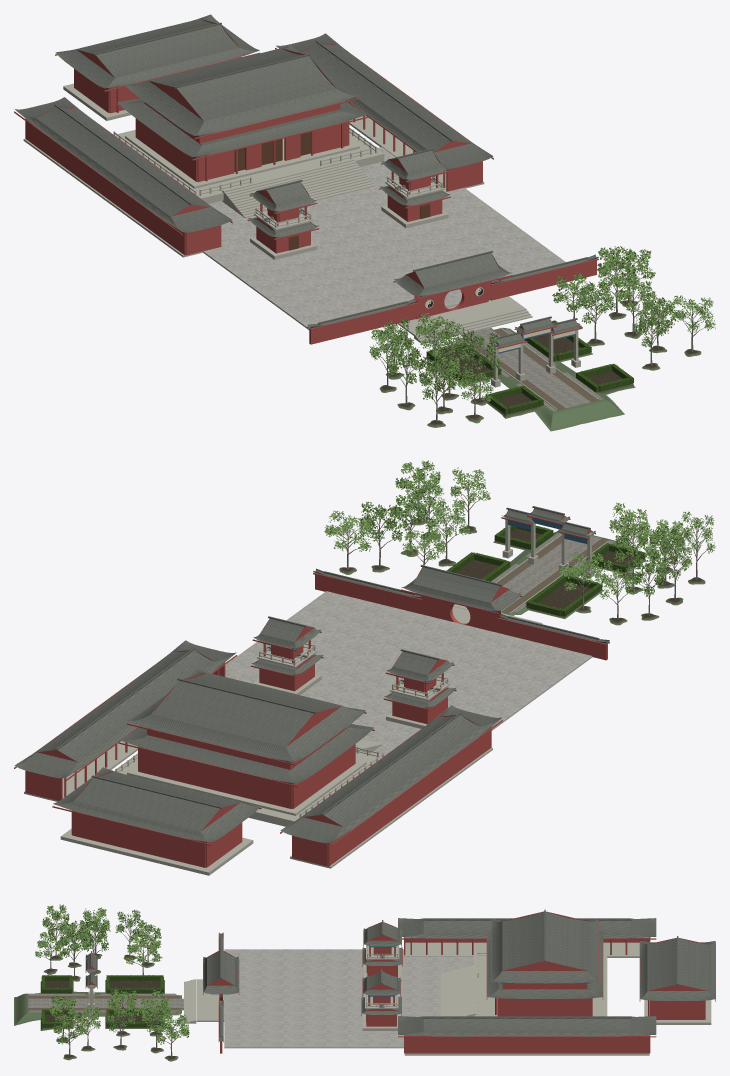
File: zhengyi-courtyard-paving-ca-wall-v1.glb
3 renders of one model, top to bottom at view 1: azimuth 30°, elevation 25°; view 2: azimuth 150°, elevation 25°; view 3: azimuth 270°, elevation 25°, orthographic. The views are drawn at different scales.
Visible parts, largest first — view 1: main courtyard paving, side gallery roof upper gable slopes, Zhengyi central double-eave hall upper roof upper gable slop, side gallery roof flared skirt, rear hall observed footprint lower roof upper gable slopes, Zhengyi central double-eave hall upper roof flared skirt, Zhengyi central double-eave hall lower roof flared skirt, main hall access stair, front red boundary wall, side gallery outer wall, ZFC hedge core, rear hall observed footprint lower roof flared skirt (+38 smaller); view 2: main courtyard paving, side gallery roof upper gable slopes, Zhengyi central double-eave hall upper roof upper gable slop, side gallery roof flared skirt, rear hall observed footprint lower roof upper gable slopes, Zhengyi central double-eave hall upper roof flared skirt, Zhengyi central double-eave hall back wall, Zhengyi central double-eave hall lower roof flared skirt, rear hall observed footprint back wall, side gallery outer wall, front red boundary wall, ZFC hedge core (+37 smaller); view 3: main courtyard paving, side gallery roof upper gable slopes, side gallery outer wall, Zhengyi central double-eave hall upper roof upper gable slop, side gallery roof flared skirt, rear hall observed footprint lower roof upper gable slopes, Zhengyi central double-eave hall upper roof flared skirt, side gallery floor, ZFC hedge core, Zhengyi central double-eave hall lower roof flared skirt, Zhengyi central double-eave hall side wall, main hall access stair (+43 smaller).
Part boxes in pixels (<box>): main courtyard paving: <box>203,147,565,329</box>; side gallery roof upper gable slopes: <box>36,43,470,216</box>; Zhengyi central double-eave hall upper roof upper gable slop: <box>149,48,335,121</box>; side gallery roof flared skirt: <box>15,33,493,232</box>; rear hall observed footprint lower roof upper gable slopes: <box>76,19,238,77</box>; Zhengyi central double-eave hall upper roof flared skirt: <box>125,45,359,135</box>; Zhengyi central double-eave hall lower roof flared skirt: <box>117,98,367,157</box>; main hall access stair: <box>222,158,375,217</box>; front red boundary wall: <box>309,258,596,344</box>; side gallery outer wall: <box>25,118,482,255</box>; ZFC hedge core: <box>426,320,633,414</box>; rear hall observed footprint lower roof flared skirt: <box>55,14,259,88</box>; main courtyard paving: <box>225,591,592,755</box>; side gallery roof upper gable slopes: <box>37,650,479,826</box>; Zhengyi central double-eave hall upper roof upper gable slop: <box>151,672,341,746</box>; side gallery roof flared skirt: <box>14,640,501,843</box>; rear hall observed footprint lower roof upper gable slopes: <box>74,771,239,831</box>; Zhengyi central double-eave hall upper roof flared skirt: <box>127,669,365,761</box>; Zhengyi central double-eave hall back wall: <box>138,746,292,808</box>; Zhengyi central double-eave hall lower roof flared skirt: <box>119,724,373,783</box>; rear hall observed footprint back wall: <box>72,810,205,867</box>; side gallery outer wall: <box>25,727,491,866</box>; front red boundary wall: <box>315,573,607,660</box>; ZFC hedge core: <box>447,525,645,616</box>; main courtyard paving: <box>224,949,473,1048</box>; side gallery roof upper gable slopes: <box>423,918,630,1031</box>; side gallery outer wall: <box>404,939,649,1053</box>; Zhengyi central double-eave hall upper roof upper gable slop: <box>502,911,587,970</box>; side gallery roof flared skirt: <box>398,918,656,1036</box>; rear hall observed footprint lower roof upper gable slopes: <box>647,938,707,990</box>; Zhengyi central double-eave hall upper roof flared skirt: <box>491,919,598,983</box>; side gallery floor: <box>404,942,649,1055</box>; ZFC hedge core: <box>41,975,163,1027</box>; Zhengyi central double-eave hall lower roof flared skirt: <box>487,931,602,998</box>; Zhengyi central double-eave hall side wall: <box>498,998,591,1016</box>; main hall access stair: <box>441,965,475,1016</box>.
Size of the model in its own units: 63.85 by 19.06 by 158.
21 materials, 6 textured.
